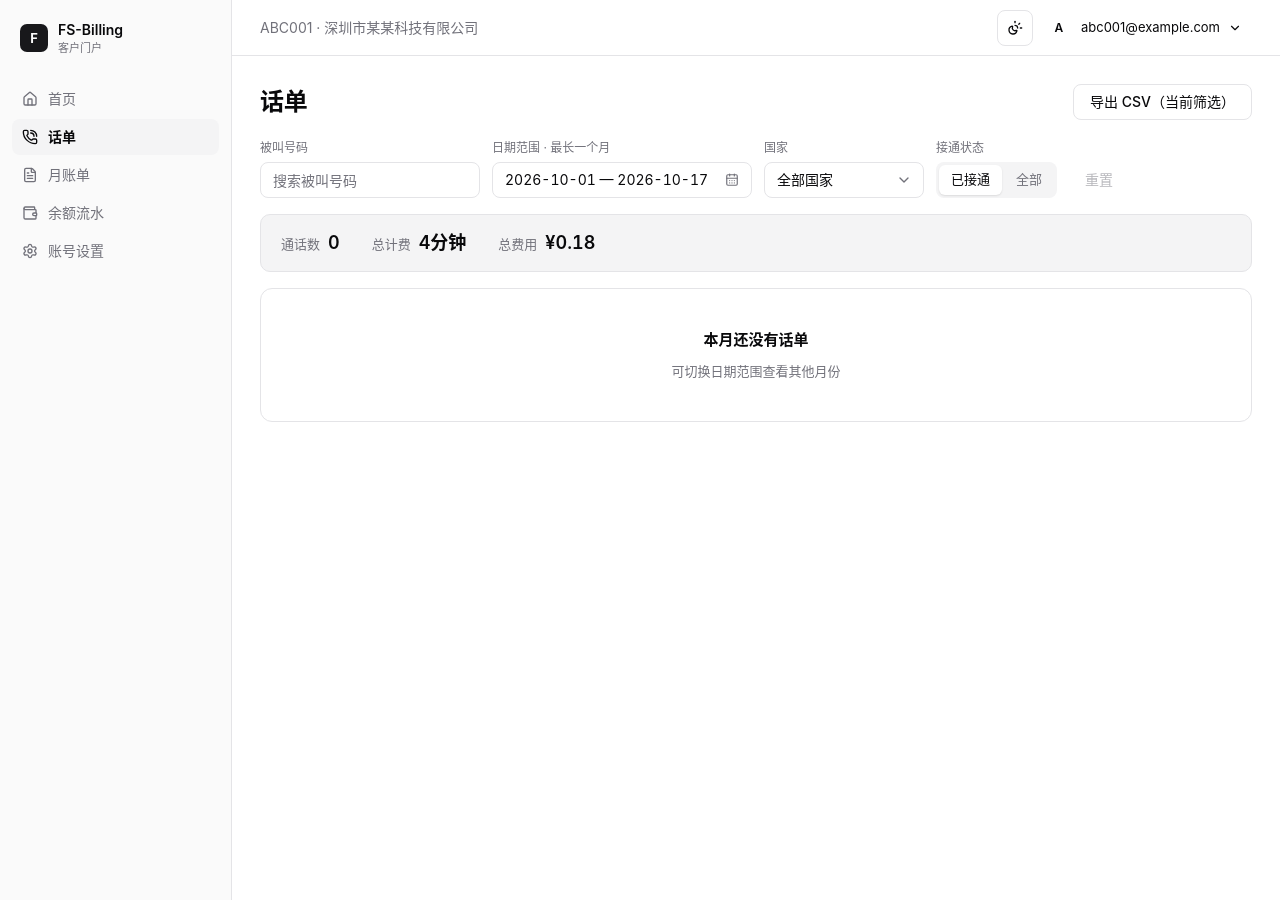
Scenario: portal CDR list › shows the empty states with and without filters
This screenshot has width=1280, height=900.
Expected: the text "本月还没有话单" is shown, [704,329,808,352]
Type "999" into the search field labelled "被叫号码" at {"x": 370, "y": 180}, box [260,162,480,198]
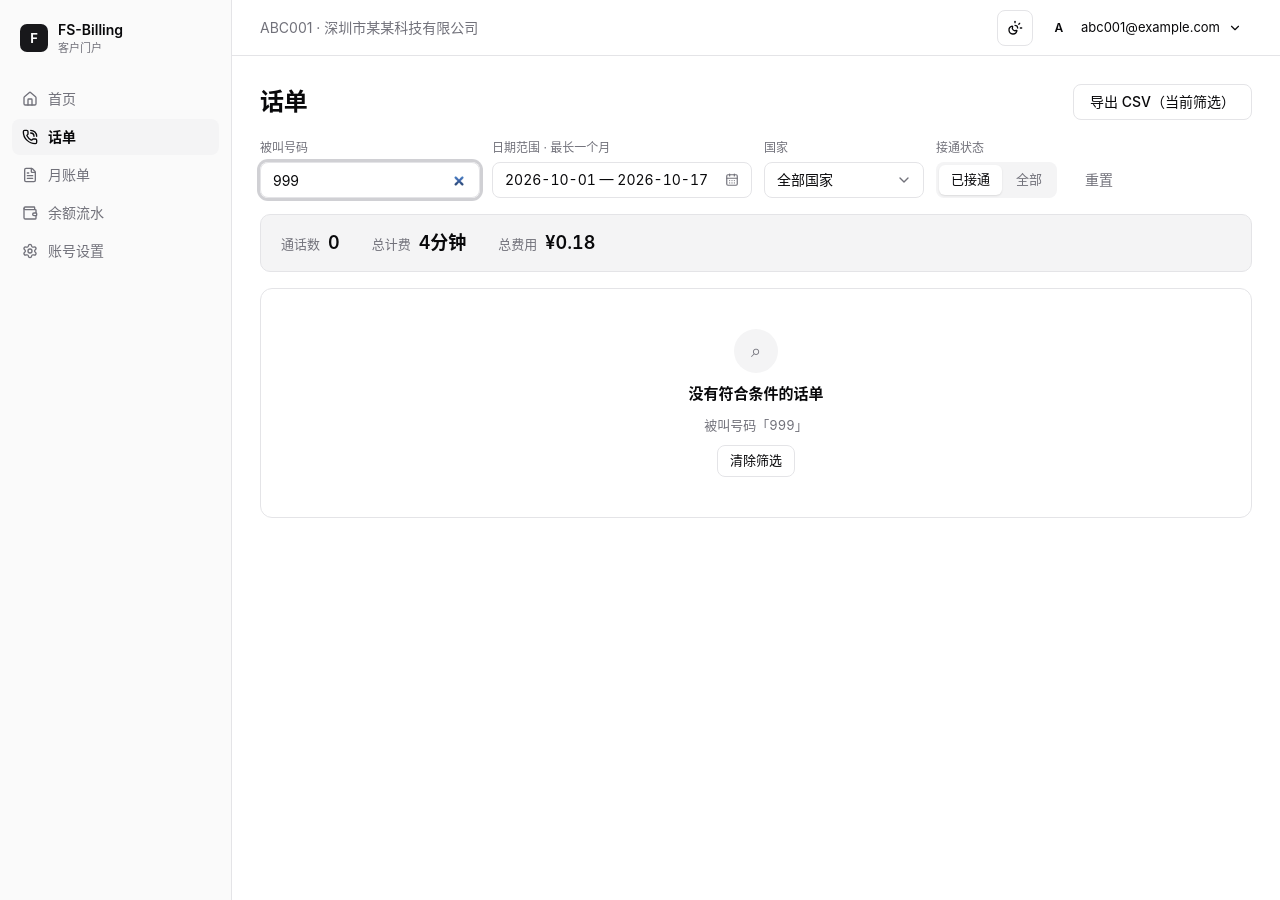
Now the text "没有符合条件的话单" is shown, box [688,383,824,406]
Now the text "被叫号码「999」" is shown, box [704,416,808,435]
Click the button "清除筛选" at {"x": 756, "y": 461}, box [717,445,795,477]
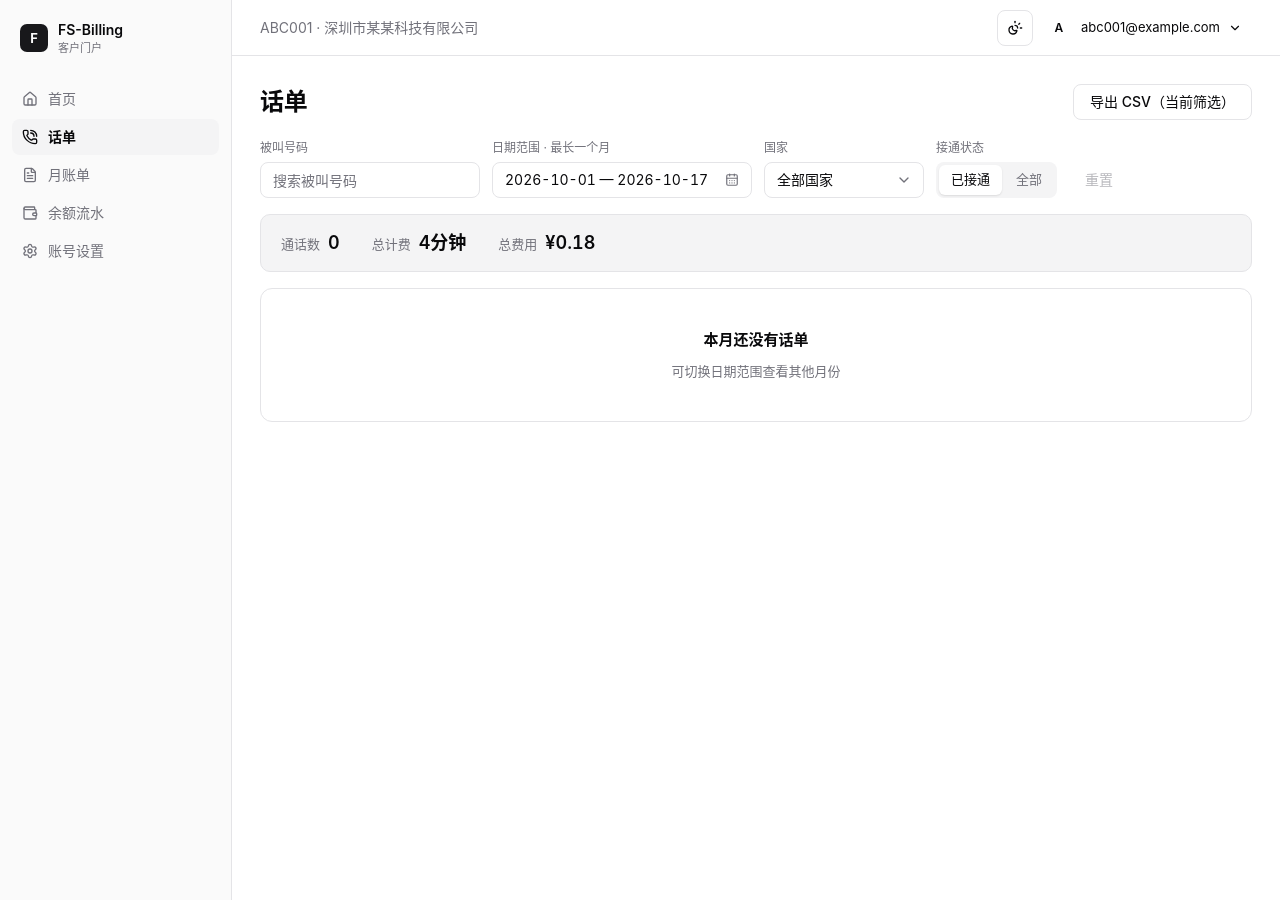
Now the text "本月还没有话单" is shown, box [704,329,808,352]
